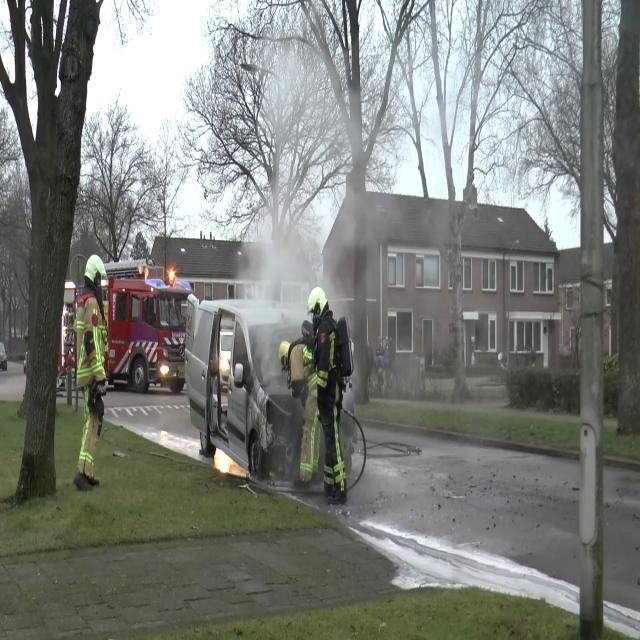Smoke: (236, 29, 388, 350)
